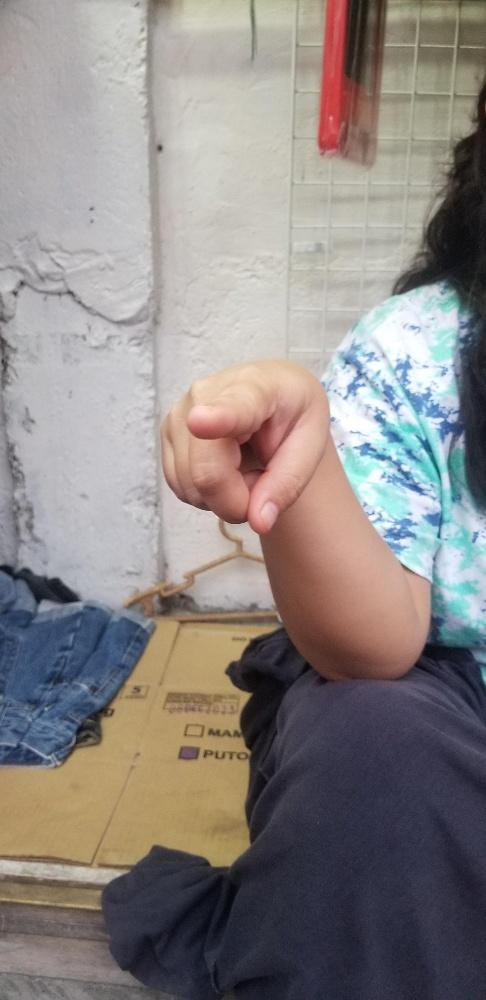z: (159, 358, 331, 532)
